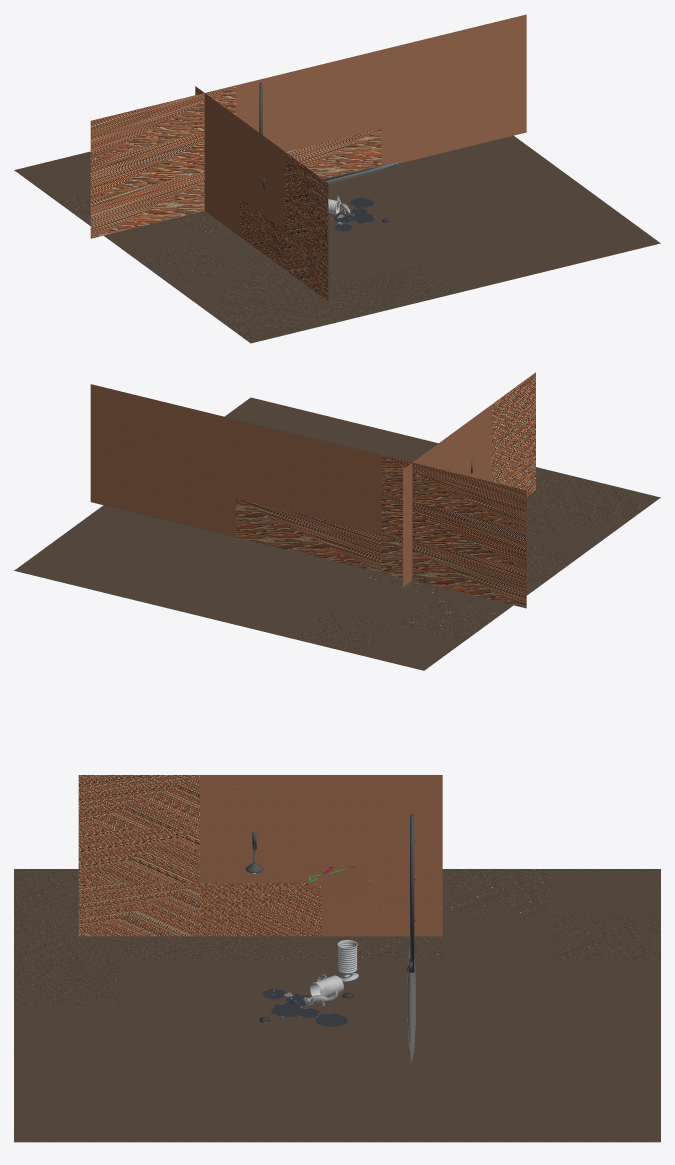
3 renders of one model, top to bottom at view 1: azimuth 30°, elevation 25°; view 2: azimuth 150°, elevation 25°; view 3: azimuth 270°, elevation 25°, orthographic. The views are drawn at different scales.
Visible parts, largest first — view 1: Env_Ground_Asphalt.001, Env_Wall_Brick_Back.001, Env_Wall_Brick_Side.001; view 2: Env_Wall_Brick_Back.001, Env_Ground_Asphalt.001, Env_Wall_Brick_Side.001; view 3: Env_Ground_Asphalt.001, Env_Wall_Brick_Side.001, Env_Kerb_Back.001, Env_Downspout.001.
Part boxes in pixels (x1=…): Env_Ground_Asphalt.001: x1=14, y1=135, x2=660, y2=343; Env_Wall_Brick_Back.001: x1=90, y1=14, x2=526, y2=238; Env_Wall_Brick_Side.001: x1=195, y1=86, x2=328, y2=300; Env_Wall_Brick_Back.001: x1=90, y1=384, x2=526, y2=608; Env_Ground_Asphalt.001: x1=14, y1=397, x2=660, y2=670; Env_Wall_Brick_Side.001: x1=403, y1=372, x2=535, y2=587; Env_Ground_Asphalt.001: x1=14, y1=869, x2=660, y2=1142; Env_Wall_Brick_Side.001: x1=78, y1=775, x2=442, y2=936; Env_Kerb_Back.001: x1=407, y1=946, x2=415, y2=1063; Env_Downspout.001: x1=410, y1=814, x2=414, y2=972.
Size of the model in its own units: 17 by 4.58 by 16.
20 materials, 7 textured.
